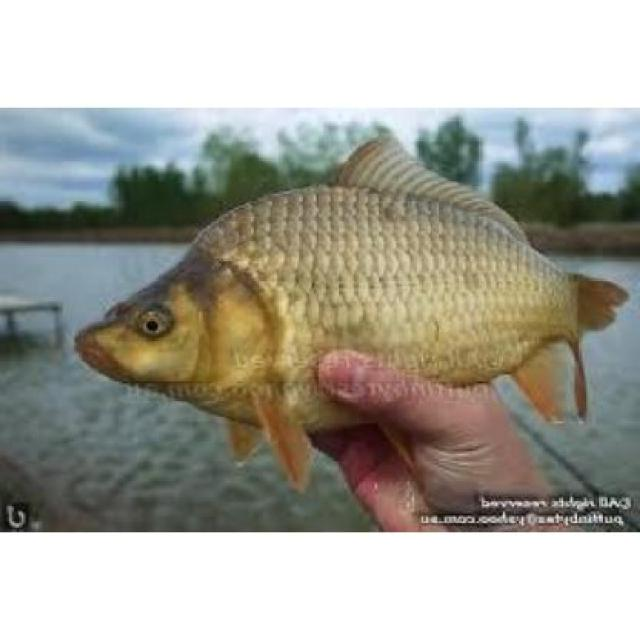ikan-mas: (78, 128, 618, 460)
